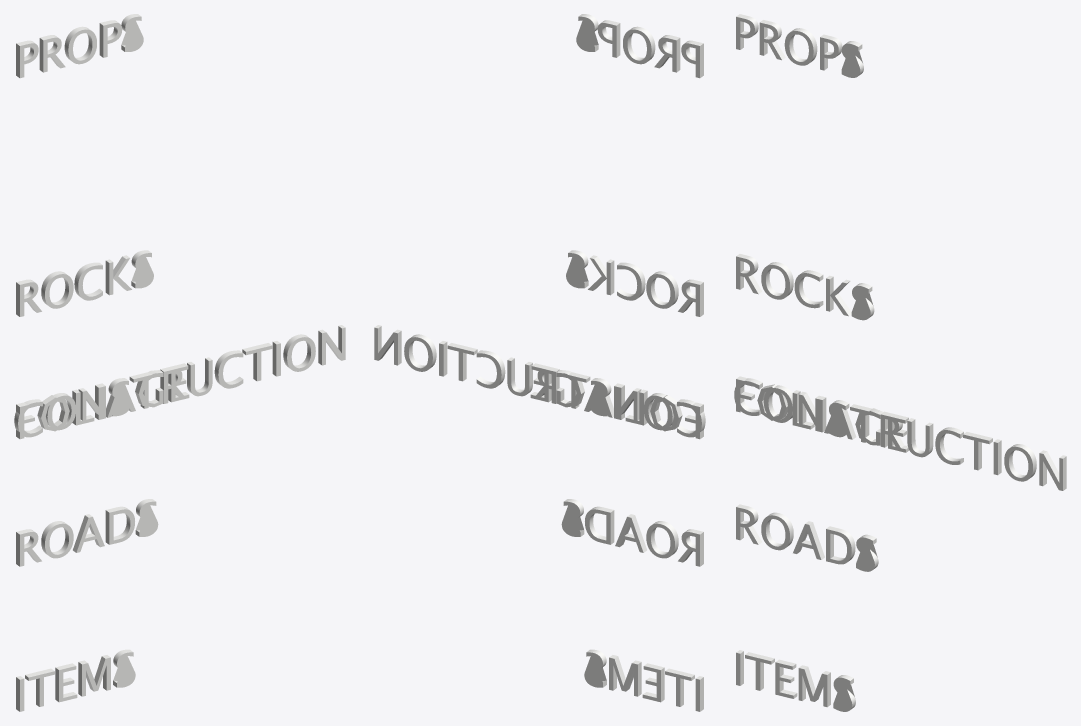
3 renders of one model, left to right at view 1: azimuth 30°, elevation 25°; view 2: azimuth 150°, elevation 25°; view 3: azimuth 330°, elevation 25°, orthographic.
Parts seen in each view (by area): view 1: FOUNDATIONS, ROADS, ROCKS, PROPS, ITEMS, FOLIAGE; view 2: FOUNDATIONS, ROADS, ROCKS, PROPS, ITEMS, FOLIAGE; view 3: FOUNDATIONS, ROADS, ROCKS, PROPS, ITEMS, FOLIAGE.
Part boxes in pixels (x1,y1,x2,y2): FOUNDATIONS: [14, 325, 345, 437]; ROADS: [16, 499, 158, 566]; ROCKS: [16, 250, 153, 316]; PROPS: [16, 14, 143, 78]; ITEMS: [16, 649, 135, 711]; FOLIAGE: [16, 363, 189, 439]; FOUNDATIONS: [374, 325, 705, 437]; ROADS: [561, 499, 703, 566]; ROCKS: [566, 250, 703, 316]; PROPS: [576, 14, 703, 78]; ITEMS: [584, 649, 703, 711]; FOLIAGE: [530, 363, 703, 439]; FOUNDATIONS: [734, 378, 1066, 490]; ROADS: [736, 504, 878, 571]; ROCKS: [736, 254, 874, 320]; PROPS: [736, 14, 863, 77]; ITEMS: [736, 650, 855, 711]; FOLIAGE: [736, 376, 909, 452].
Size of the model in its own units: 127 by 247 by 2.5.
1 material, 1 textured.
